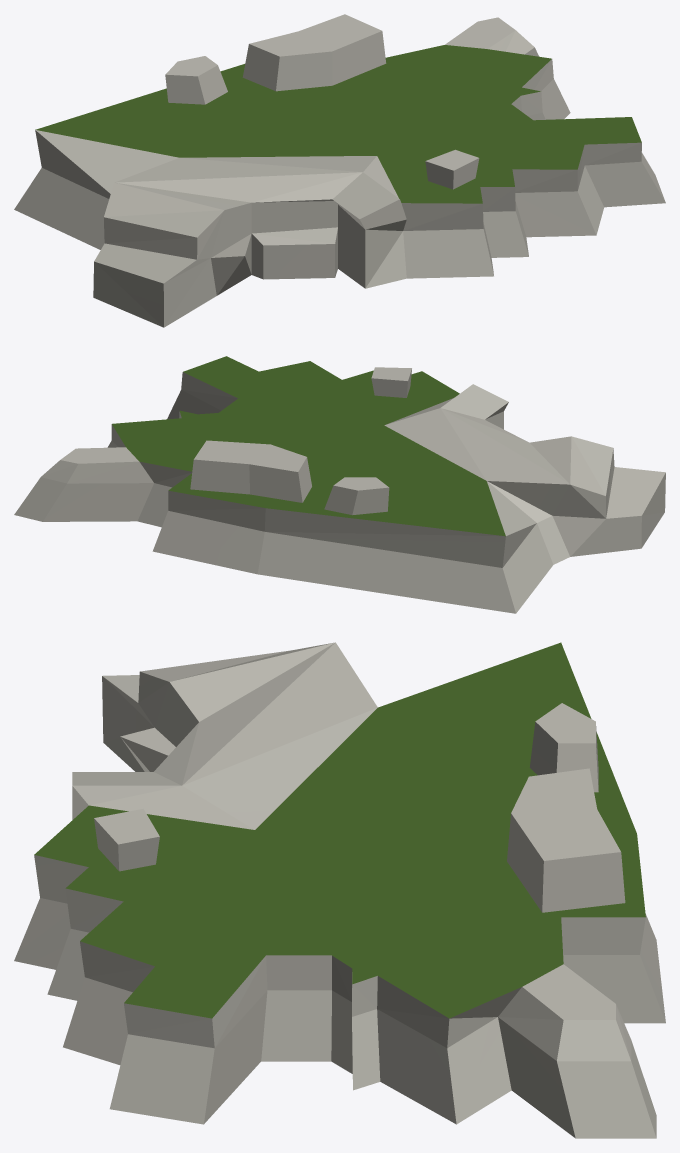
Rendered from Terrain_Rock_Mound_Shelf_Grass_01.fbx.
The picture shows the model from 3 angles, top to bottom: view 1: azimuth 30°, elevation 25°; view 2: azimuth 150°, elevation 25°; view 3: azimuth 270°, elevation 25°; orthographic projection. The views are drawn at different scales.
Visible parts, largest first — view 1: Terrain_Rock_Mound_Shelf_Grass_01; view 2: Terrain_Rock_Mound_Shelf_Grass_01; view 3: Terrain_Rock_Mound_Shelf_Grass_01.
Part boxes in pixels (x1=…): Terrain_Rock_Mound_Shelf_Grass_01: x1=14, y1=14, x2=665, y2=327; Terrain_Rock_Mound_Shelf_Grass_01: x1=14, y1=356, x2=665, y2=613; Terrain_Rock_Mound_Shelf_Grass_01: x1=14, y1=642, x2=665, y2=1138.
Size of the model in its own units: 13611 by 2384 by 9104.
